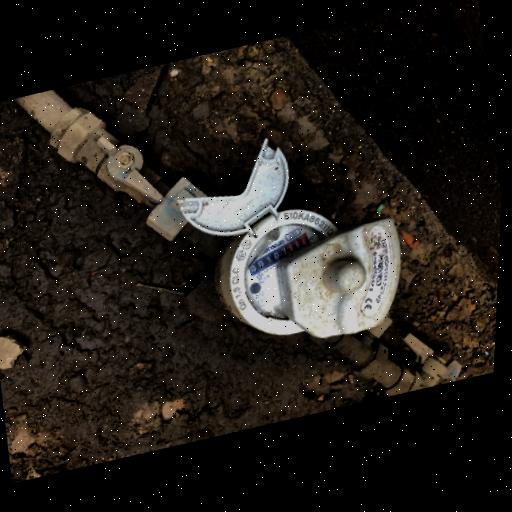0: (270, 248, 283, 261), (255, 257, 267, 270), (248, 262, 258, 274)
1: (263, 253, 274, 266)
6: (297, 232, 310, 248), (291, 238, 302, 251), (286, 242, 295, 253)
7: (278, 245, 290, 257)
border_water_meter_number: (243, 231, 314, 278)
